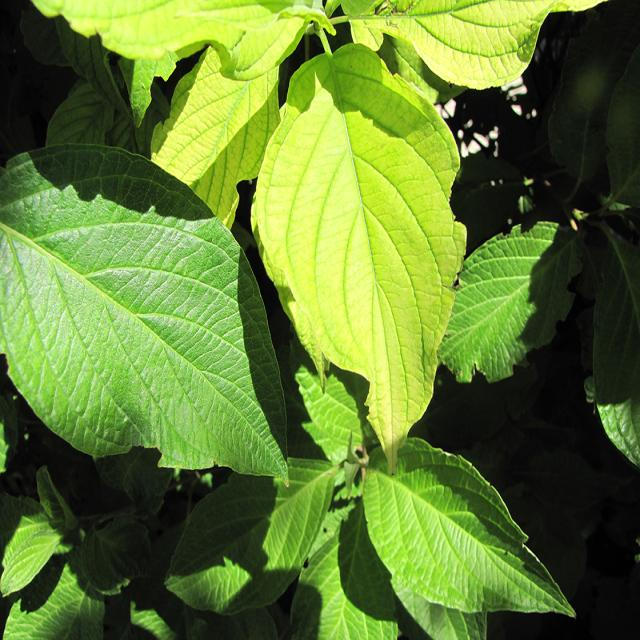Chlorosis: (98, 9, 547, 392)
